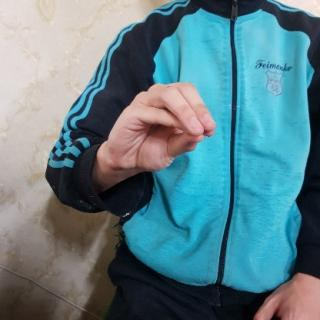HA: (104, 78, 232, 180)
